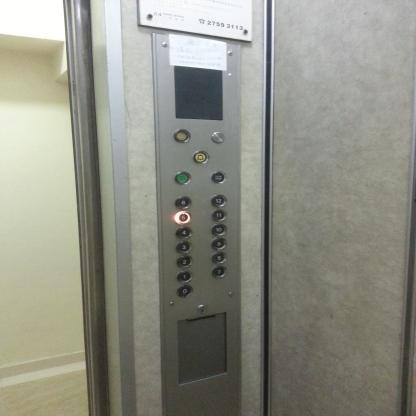0: (176, 284, 192, 297)
1: (176, 270, 192, 282)
10: (211, 223, 227, 236)
11: (211, 209, 226, 221)
12: (210, 194, 226, 207)
2: (176, 254, 192, 268)
3: (176, 240, 192, 254)
4: (175, 226, 192, 239)
5: (175, 211, 191, 224)
6: (174, 196, 192, 209)
7: (212, 266, 226, 277)
8: (212, 252, 226, 263)
9: (212, 237, 226, 249)
alarm: (192, 150, 209, 164)
blur: (174, 129, 190, 143)
empty: (211, 132, 225, 143)
keyhole: (196, 304, 207, 313)
led: (173, 64, 224, 121)
text_blur: (174, 171, 191, 185), (210, 170, 226, 184)
